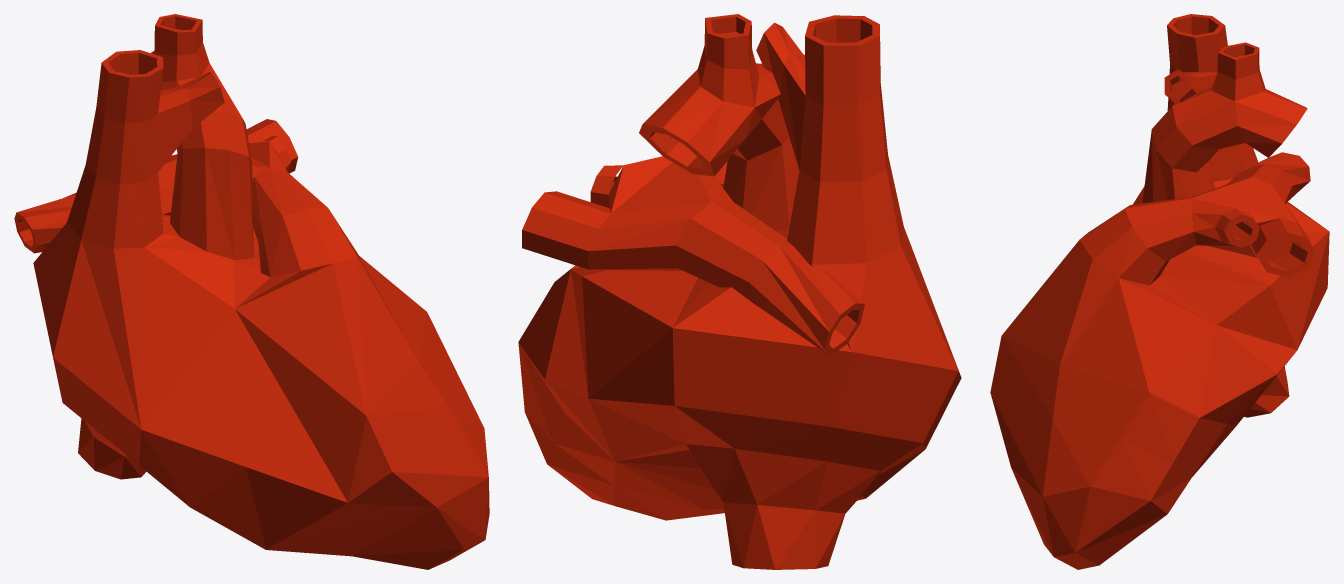
The model's file is Heart.gltf.
The picture shows the model from 3 angles, left to right: view 1: azimuth 30°, elevation 25°; view 2: azimuth 150°, elevation 25°; view 3: azimuth 270°, elevation 25°; orthographic projection. The views are drawn at different scales.
Visible parts, largest first — view 1: Heart; view 2: Heart; view 3: Heart.
Boxes of the visible parts, x1=… form: Heart: x1=14, y1=14, x2=489, y2=569; Heart: x1=518, y1=14, x2=961, y2=569; Heart: x1=990, y1=14, x2=1329, y2=569.
Size of the model in its own units: 0.4546 by 0.5875 by 0.407.
Materials: 1 (1 with a texture image).
